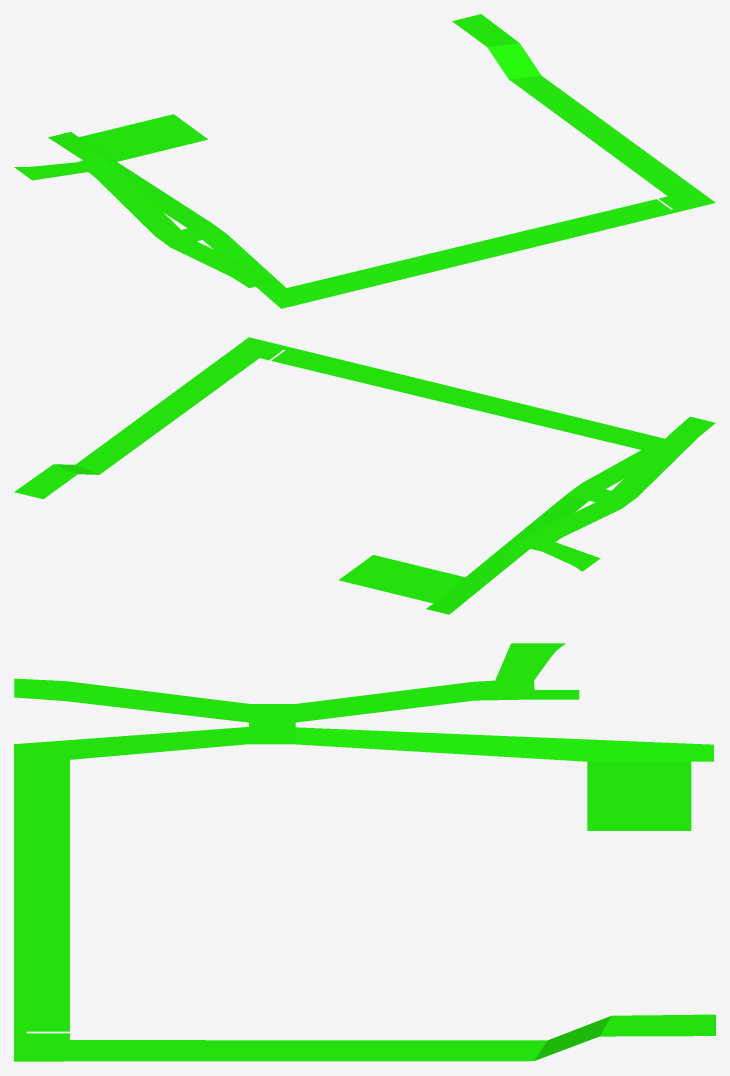
The picture shows the model from 3 angles, top to bottom: view 1: azimuth 30°, elevation 25°; view 2: azimuth 150°, elevation 25°; view 3: azimuth 270°, elevation 25°; orthographic projection. The views are drawn at different scales.
Parts seen in each view (by area): view 1: Plane.003; view 2: Plane.003; view 3: Plane.003.
Part boxes in pixels (x1=…): Plane.003: x1=14, y1=14, x2=715, y2=308; Plane.003: x1=14, y1=337, x2=715, y2=614; Plane.003: x1=14, y1=643, x2=715, y2=1061.
Bounding box in the file's own units: 42.55 × 2.23 × 33.42.
